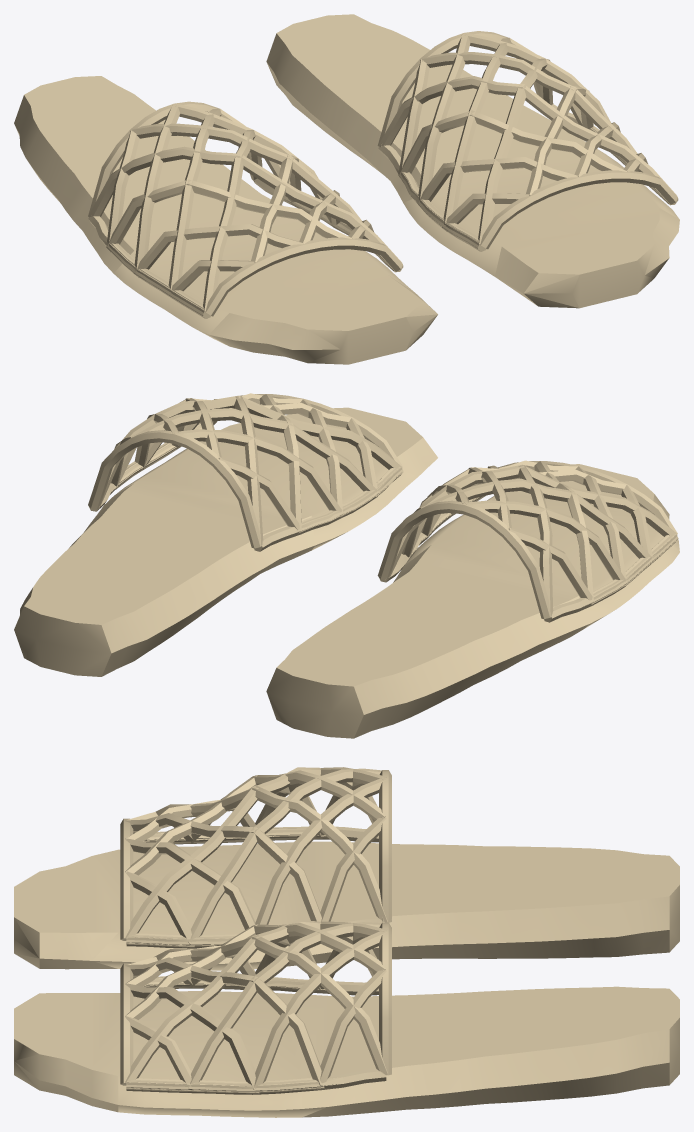
File: dep_to_ong_vn.far.glb
3 views of the same model, one above another, from view 1: azimuth 30°, elevation 25°; view 2: azimuth 150°, elevation 25°; view 3: azimuth 270°, elevation 25° (orthographic). The views are drawn at different scales.
Parts seen in each view (by area): view 1: dep_to_ong_vn; view 2: dep_to_ong_vn; view 3: dep_to_ong_vn.
Part boxes in pixels (<box>): dep_to_ong_vn: <box>14,14,679,364</box>; dep_to_ong_vn: <box>14,393,679,738</box>; dep_to_ong_vn: <box>14,767,679,1117</box>.
Bounding box in the file's own units: 0.2344 × 0.0608 × 0.2537.
